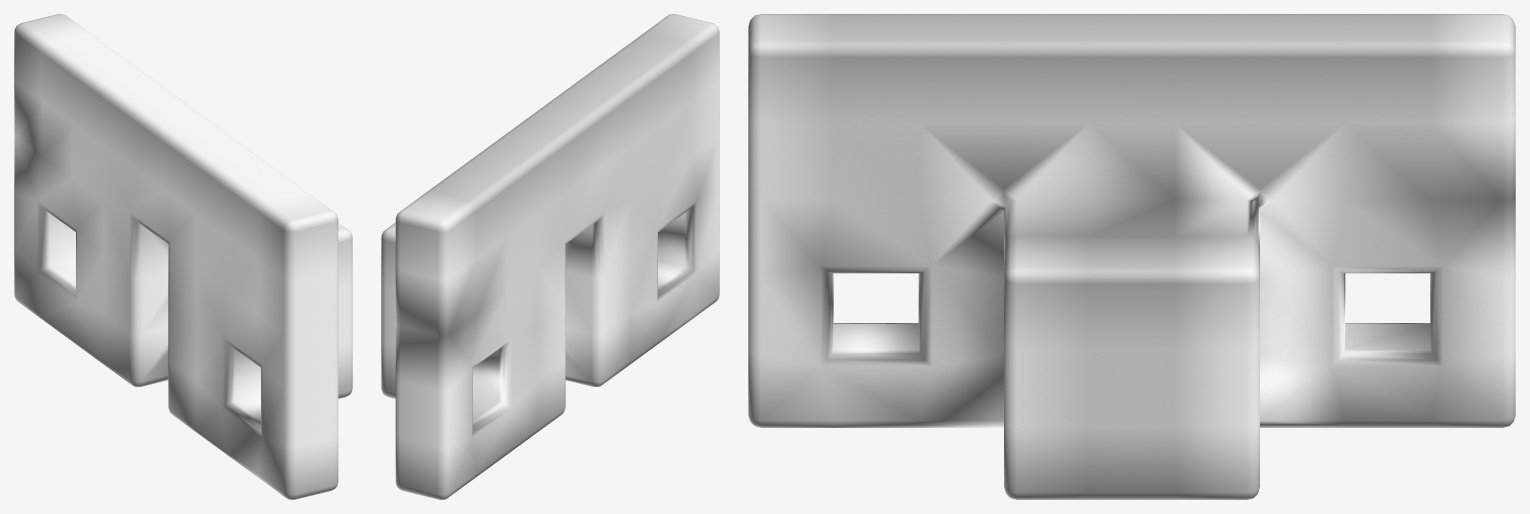
File: __clay_block_10_5.obj
3 renders of one model, left to right at view 1: azimuth 30°, elevation 25°; view 2: azimuth 150°, elevation 25°; view 3: azimuth 270°, elevation 25°, orthographic. The views are drawn at different scales.
Parts seen in each view (by area): view 1: clay_block_5; view 2: clay_block_5; view 3: clay_block_5.
Boxes of the visible parts, bbox=[...] form: clay_block_5: bbox=[14, 14, 352, 499]; clay_block_5: bbox=[381, 14, 719, 499]; clay_block_5: bbox=[748, 14, 1515, 499].
Size of the model in its own units: 3 by 5 by 9.
1 material, 1 textured.
